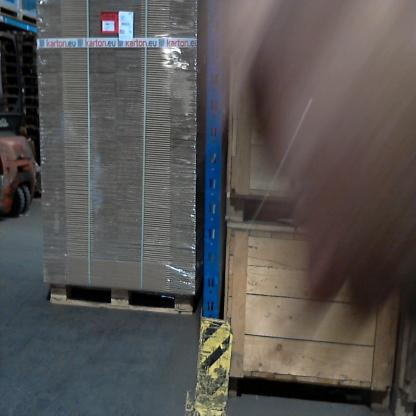forklift: (0, 34, 38, 221)
pallet: (49, 284, 194, 316)
